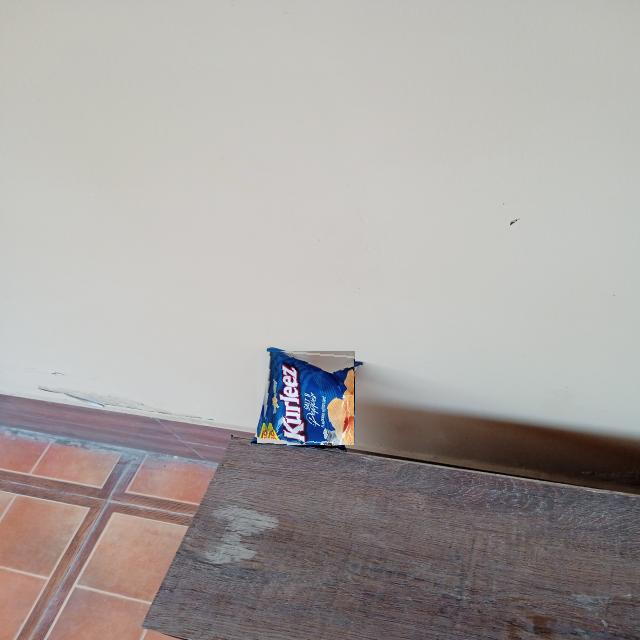Plastic: (259, 349, 354, 445)
